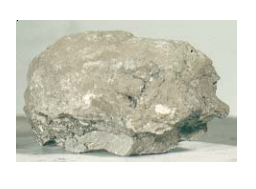Breccia: (12, 17, 221, 141)
